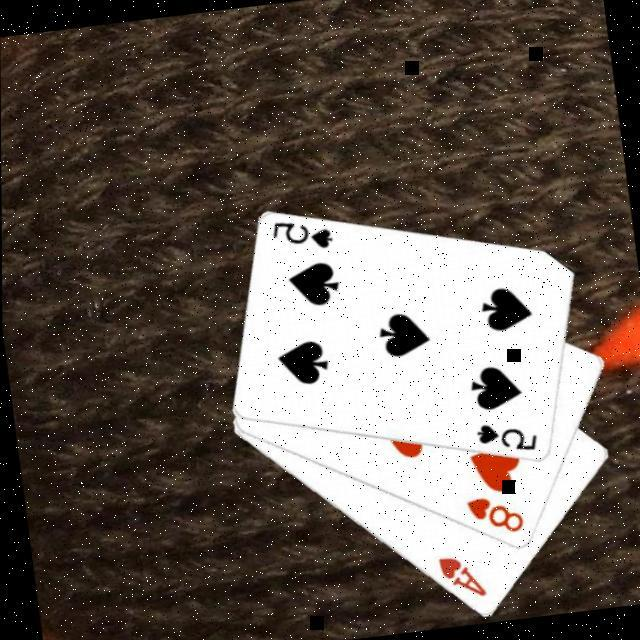5S: (268, 213, 338, 259), (473, 416, 541, 462)
8H: (462, 491, 528, 543)
AH: (433, 550, 489, 607)
